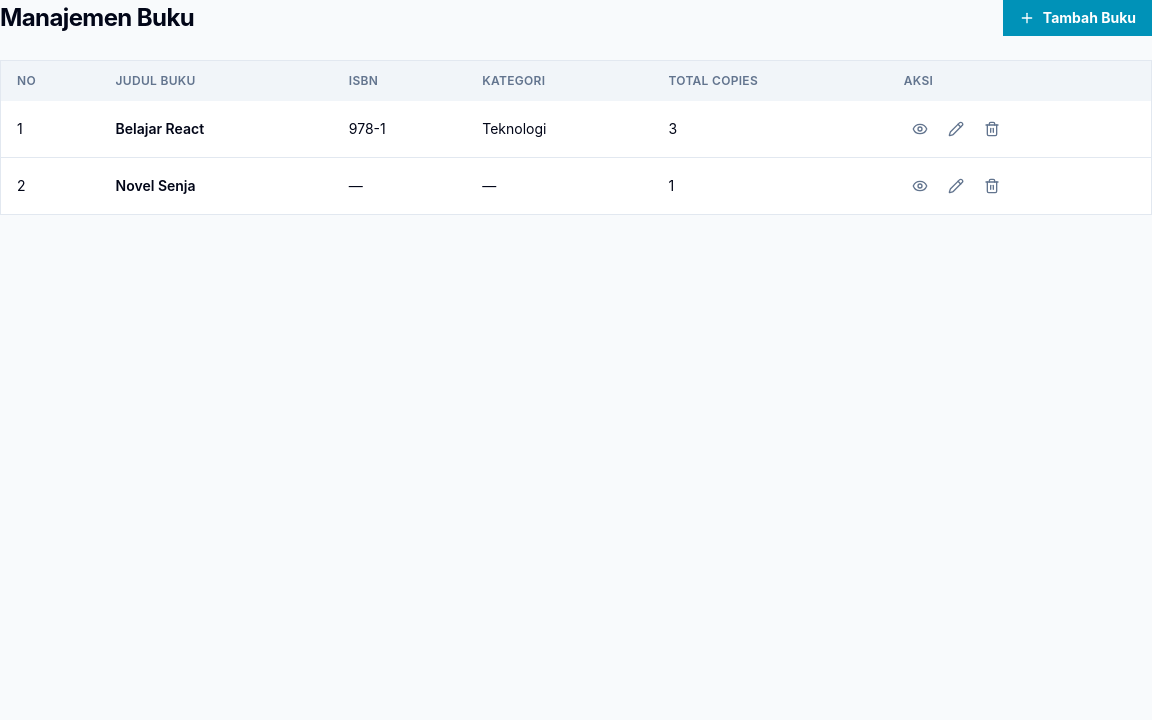
BooksPage › shows all fields and audit info in the detail modal
Check: the text "Belajar React" is shown, box [100,101,333,158]
Click the button named "Lihat detail" in the row of "Belajar React": (920, 129) [904,113,936,145]
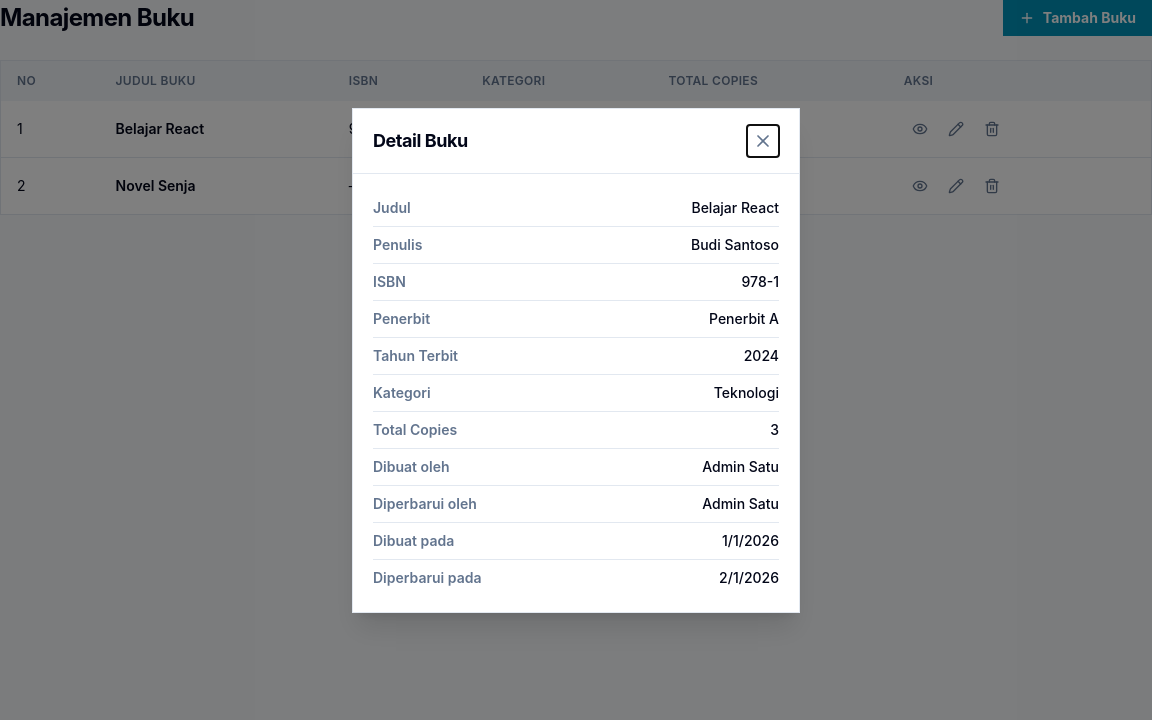
Check: the text "Belajar React" is shown, box [691,198,779,218]
Check: the text "Budi Santoso" is shown, box [691,234,779,254]
Check: the text "978-1" is shown, box [742,272,779,292]
